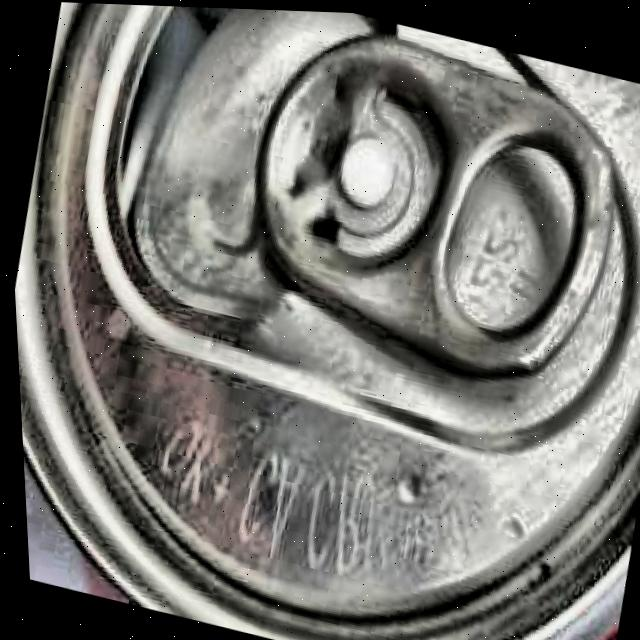metal: (12, 2, 640, 640)
